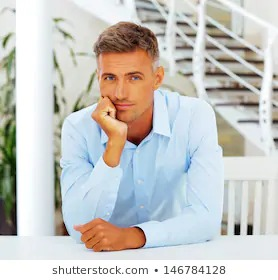F_shirt: (56, 86, 223, 250)
